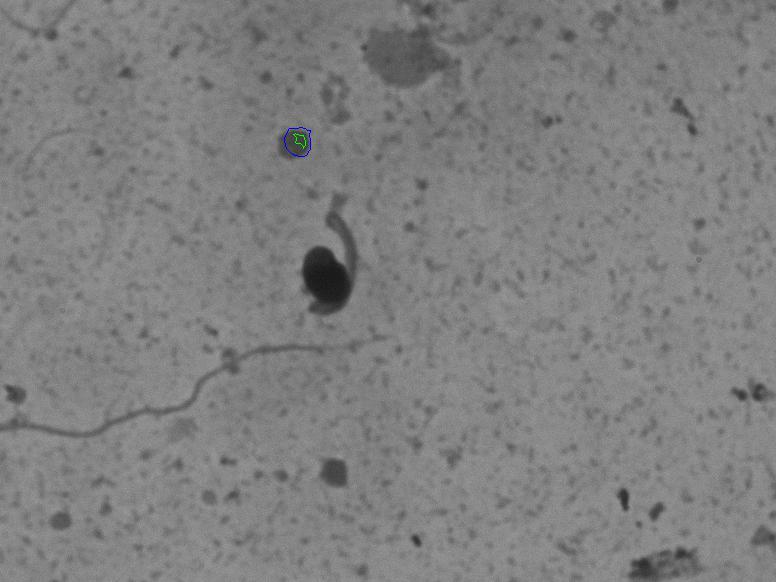Abnormal: (275, 190, 386, 329)
